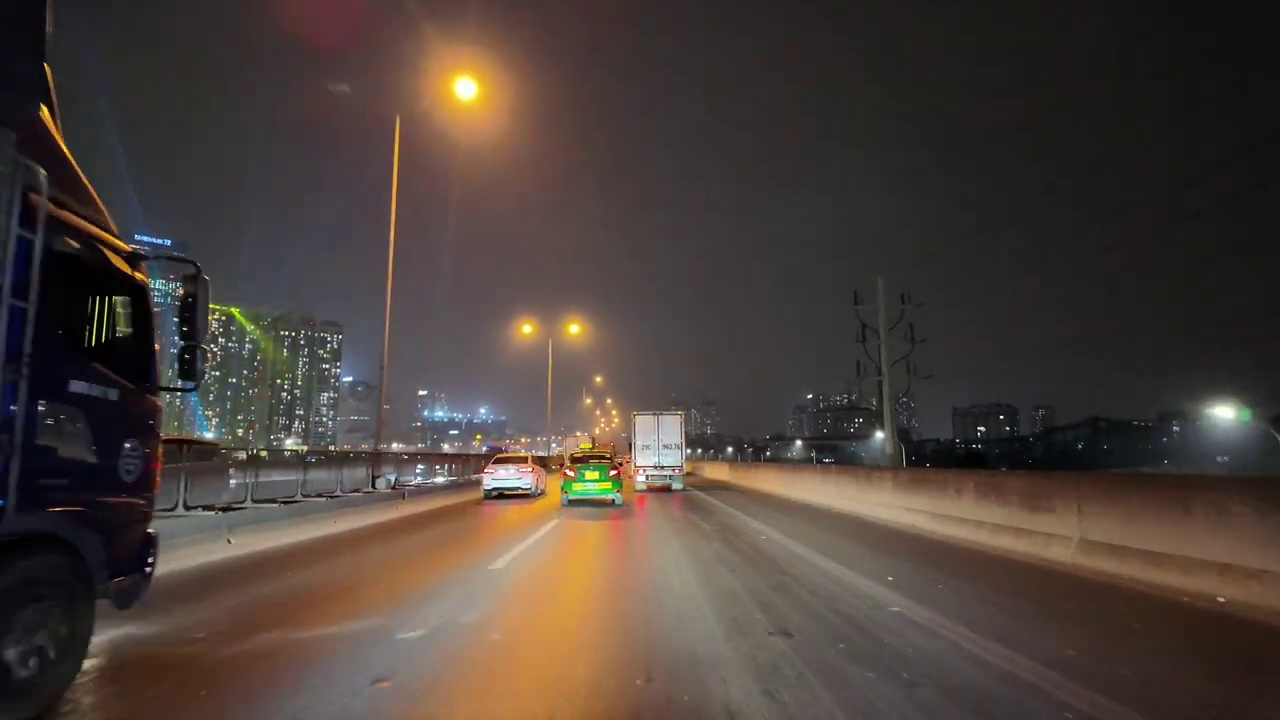acesa: (438, 66, 491, 119), (1201, 396, 1249, 432), (559, 315, 590, 345), (511, 315, 542, 344)
apagada: (323, 74, 365, 105)
